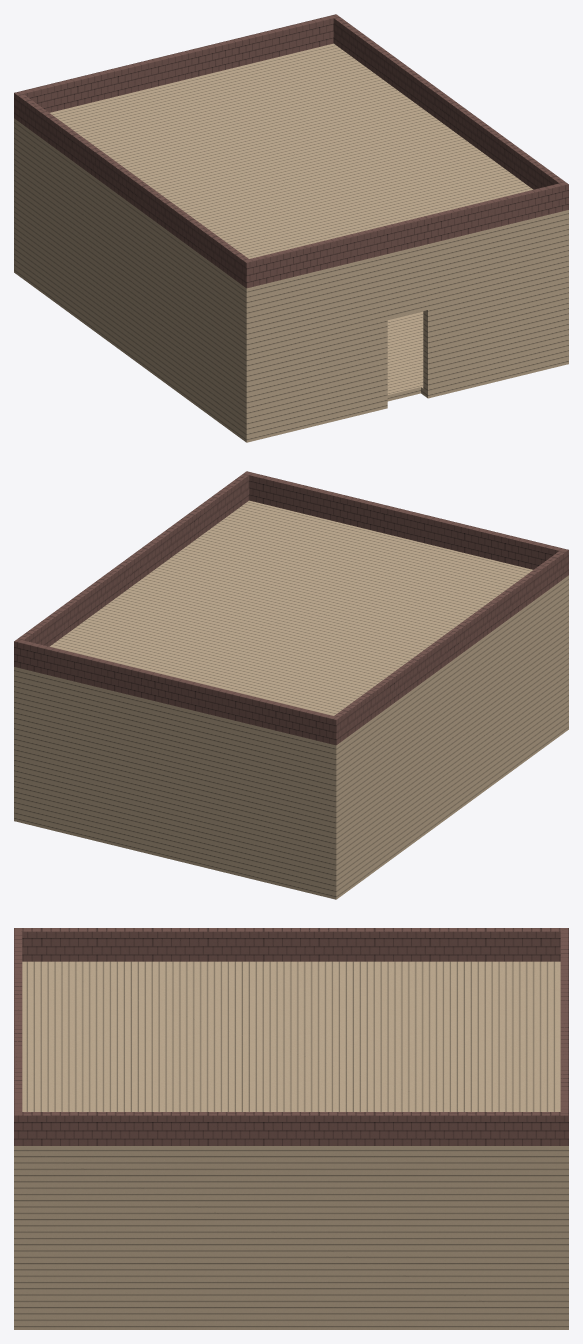
File: cemetery_grounds_chapel.glb
3 views of the same model, one above another, from view 1: azimuth 30°, elevation 25°; view 2: azimuth 150°, elevation 25°; view 3: azimuth 270°, elevation 25° (orthographic). The views are drawn at different scales.
Visible parts, largest first — view 1: cemetery_grounds_chapel-col; view 2: cemetery_grounds_chapel-col; view 3: cemetery_grounds_chapel-col.
Boxes of the visible parts, left/top/right/bottom form: cemetery_grounds_chapel-col: left=14, top=14, right=568, bottom=442; cemetery_grounds_chapel-col: left=14, top=471, right=568, bottom=899; cemetery_grounds_chapel-col: left=14, top=928, right=568, bottom=1329.
Size of the model in its own units: 8 by 4.26 by 10.
2 materials, 2 textured.
